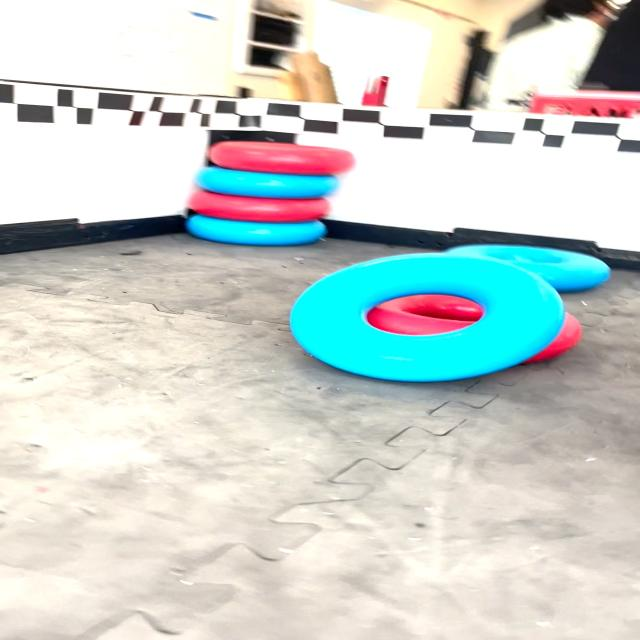Blue-Ring: (289, 256, 562, 384), (444, 245, 609, 291), (196, 166, 340, 199), (187, 214, 327, 246)
Red-Ring: (209, 141, 356, 175), (187, 190, 331, 222), (556, 316, 576, 341)
